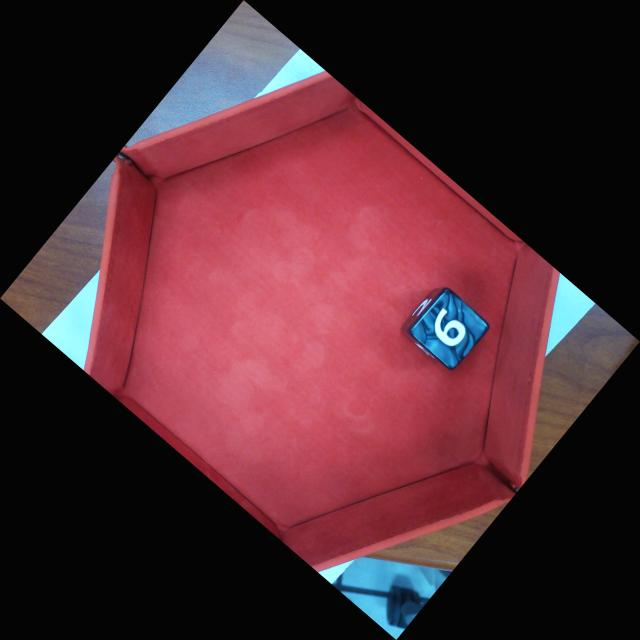dice: (409, 286, 494, 368)
